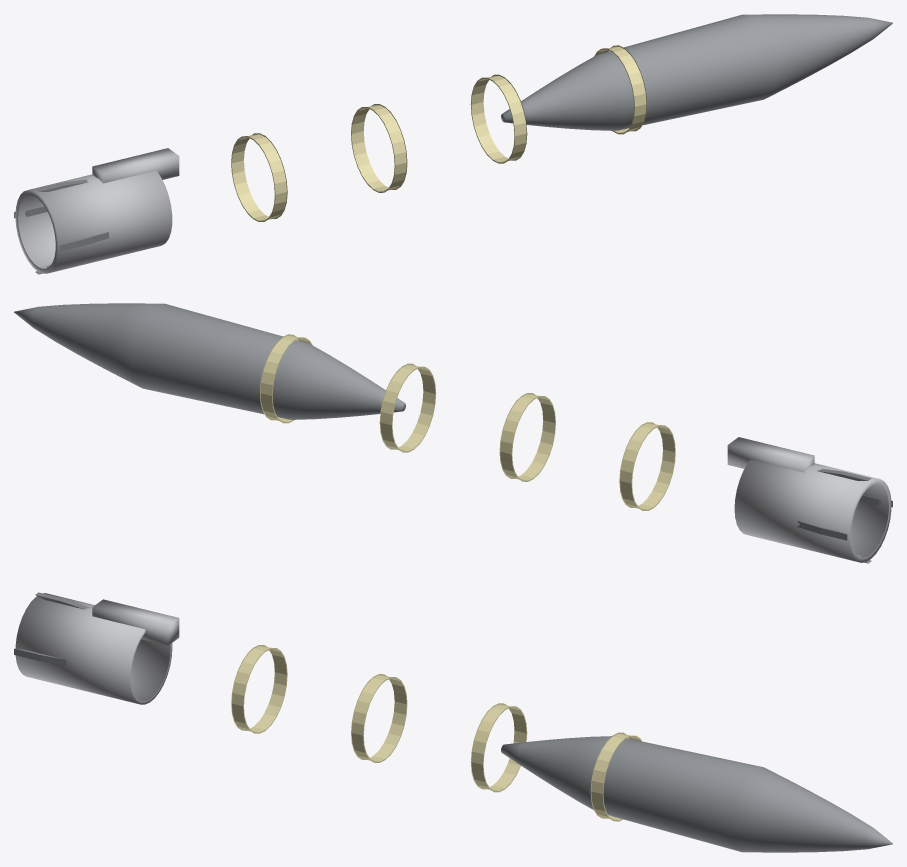
The model's file is FR_TORP_F21_LOD1.fbx.
3 views of the same model, one above another, from view 1: azimuth 30°, elevation 25°; view 2: azimuth 150°, elevation 25°; view 3: azimuth 330°, elevation 25° (orthographic).
Visible parts, largest first — view 1: WPN_FR_TORP_F21_LOD1_Body, WPN_FR_TORP_F21_LOD1_Propulsor, WPN_FR_TORP_F21_LOD1_Marking, WPN_FR_TORP_F21_LOD1_Detail, WPN_FR_TORP_F21_LOD1_Fins; view 2: WPN_FR_TORP_F21_LOD1_Body, WPN_FR_TORP_F21_LOD1_Propulsor, WPN_FR_TORP_F21_LOD1_Marking, WPN_FR_TORP_F21_LOD1_Detail, WPN_FR_TORP_F21_LOD1_Fins; view 3: WPN_FR_TORP_F21_LOD1_Body, WPN_FR_TORP_F21_LOD1_Propulsor, WPN_FR_TORP_F21_LOD1_Marking, WPN_FR_TORP_F21_LOD1_Detail, WPN_FR_TORP_F21_LOD1_Fins.
Boxes of the visible parts, x1,y1,x2,y2 form: WPN_FR_TORP_F21_LOD1_Body: [501, 14, 892, 130]; WPN_FR_TORP_F21_LOD1_Propulsor: [15, 170, 172, 273]; WPN_FR_TORP_F21_LOD1_Marking: [231, 45, 646, 221]; WPN_FR_TORP_F21_LOD1_Detail: [92, 148, 179, 183]; WPN_FR_TORP_F21_LOD1_Fins: [14, 179, 108, 274]; WPN_FR_TORP_F21_LOD1_Body: [14, 303, 405, 419]; WPN_FR_TORP_F21_LOD1_Propulsor: [734, 459, 891, 562]; WPN_FR_TORP_F21_LOD1_Marking: [260, 334, 675, 510]; WPN_FR_TORP_F21_LOD1_Detail: [727, 437, 814, 472]; WPN_FR_TORP_F21_LOD1_Fins: [797, 468, 892, 563]; WPN_FR_TORP_F21_LOD1_Body: [501, 736, 892, 852]; WPN_FR_TORP_F21_LOD1_Propulsor: [15, 593, 172, 704]; WPN_FR_TORP_F21_LOD1_Marking: [231, 645, 641, 821]; WPN_FR_TORP_F21_LOD1_Detail: [92, 599, 179, 645]; WPN_FR_TORP_F21_LOD1_Fins: [14, 592, 90, 665].
Size of the model in its own units: 6 by 0.5539 by 0.5888.
